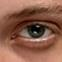eye: (28, 24, 44, 37)
